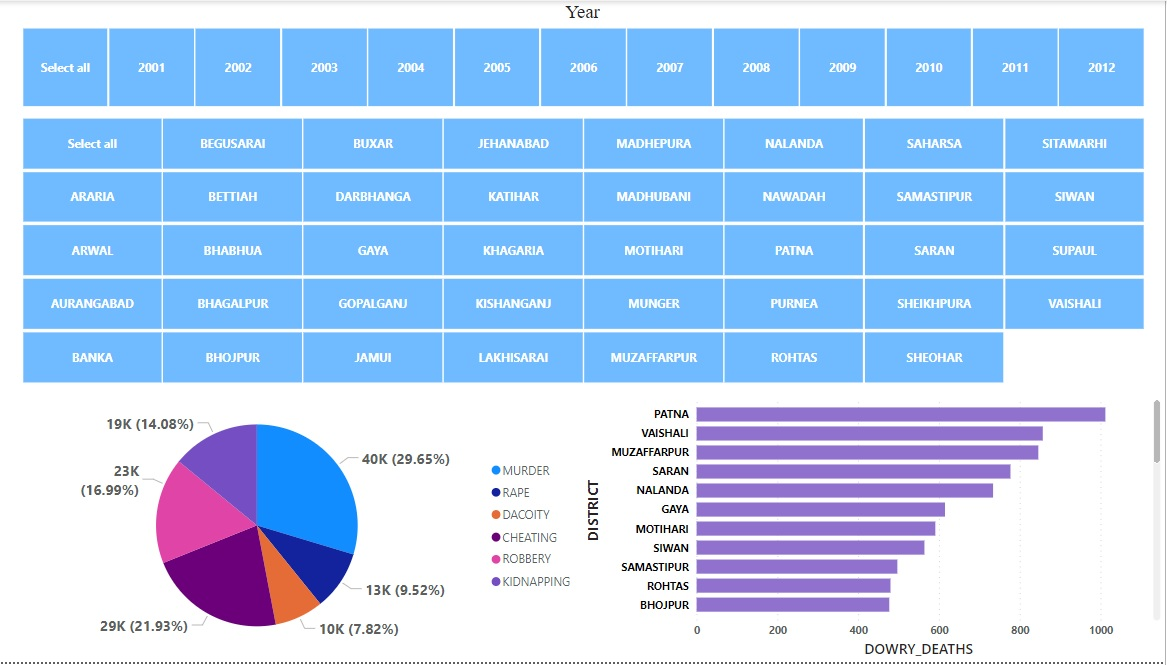

What the dashboard file says about the page in this screenshot:
{"tool":"powerbi","page":{"name":"Page 1","canvas":[1321,750],"ordinal":0},"visuals":[{"type":"slicer","title":"Year","fields":{"Values":["District_wise_crimes_committed_IPC_2001_2012.YEAR"]},"box":[0,0,1321,126.1],"z":0},{"type":"slicer","fields":{"Values":["District_wise_crimes_committed_IPC_2001_2012.DISTRICT"]},"box":[0,126.1,1321,313.2],"z":1000},{"type":"pieChart","fields":{"Y":["Sum(District_wise_crimes_committed_IPC_2001_2012.MURDER)","Sum(District_wise_crimes_committed_IPC_2001_2012.RAPE)","Sum(District_wise_crimes_committed_IPC_2001_2012.DACOITY)","Sum(District_wise_crimes_committed_IPC_2001_2012.CHEATING)","Sum(District_wise_crimes_committed_IPC_2001_2012.ROBBERY)","Sum(District_wise_crimes_committed_IPC_2001_2012.KIDNAPPING)"]},"box":[21.3,439.4,639.2,310.4],"z":2000},{"type":"barChart","fields":{"Category":["District_wise_crimes_committed_IPC_2001_2012.DISTRICT"],"Y":["Sum(District_wise_crimes_committed_IPC_2001_2012.DOWRY_DEATHS)"]},"box":[660.5,439.4,660.5,310.4],"z":2001}]}

Visuals, with their boxes in screenshot pixels (x1, y1, x2, y2), scaled from the page's 1321x750 canvas onto the 1167x665 screenshot:
"Year" slicer: 0/0/1166/112
slicer - District_wise_crimes_committed_IPC_2001_2012.DISTRICT: 0/112/1166/390
pieChart - Sum(District_wise_crimes_committed_IPC_2001_2012.MURDER) x Sum(District_wise_crimes_committed_IPC_2001_2012.RAPE): 19/390/584/664
barChart - District_wise_crimes_committed_IPC_2001_2012.DISTRICT x Sum(District_wise_crimes_committed_IPC_2001_2012.DOWRY_DEATHS): 584/390/1166/664
